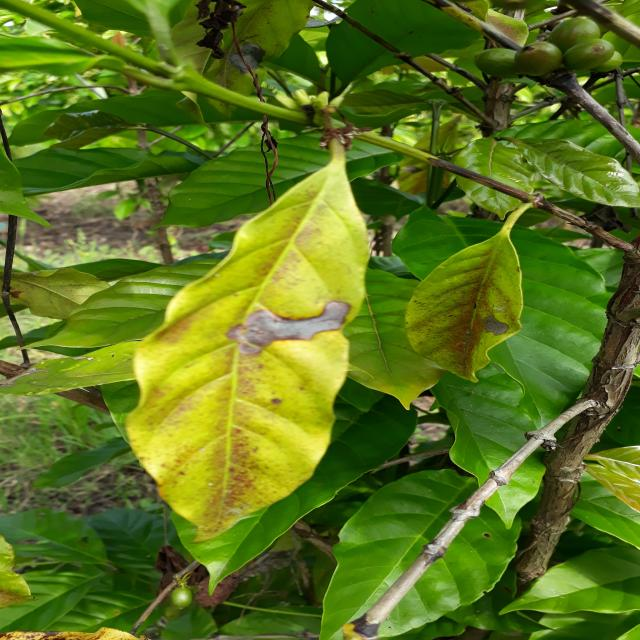Plaga-AranaRoja: (125, 159, 370, 576)
